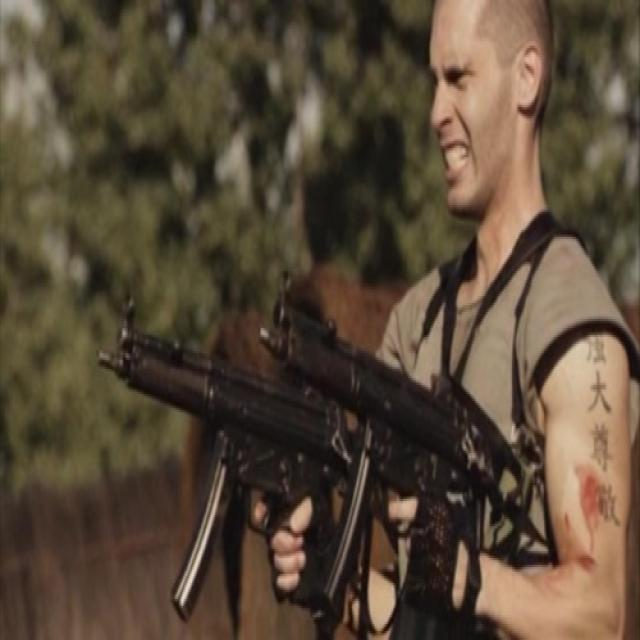rifle: (257, 266, 532, 628), (94, 290, 351, 624)
